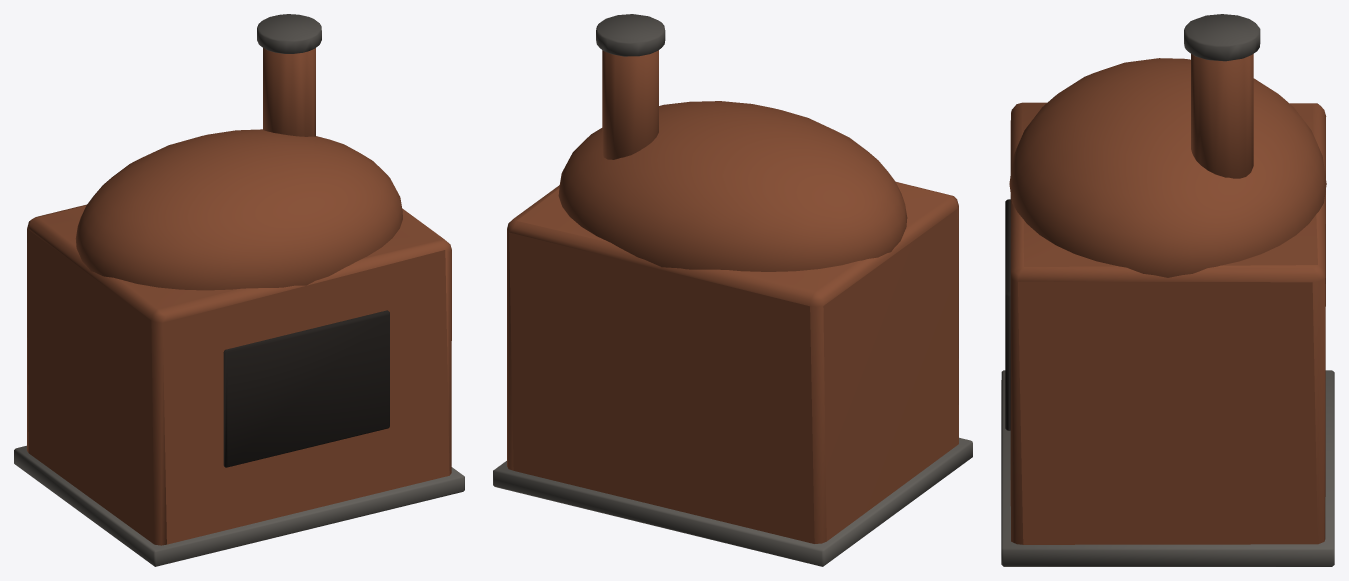
File: lo_gach.glb
3 views of the same model, side by side, from view 1: azimuth 30°, elevation 25°; view 2: azimuth 150°, elevation 25°; view 3: azimuth 270°, elevation 25° (orthographic). The views are drawn at different scales.
Visible parts, largest first — view 1: lo_gach; view 2: lo_gach; view 3: lo_gach.
Boxes of the visible parts, x1=… form: lo_gach: x1=14, y1=14, x2=464, y2=566; lo_gach: x1=493, y1=14, x2=972, y2=566; lo_gach: x1=1001, y1=14, x2=1334, y2=566.
Bounding box in the file's own units: 0.9381 × 1.2 × 0.7381.
